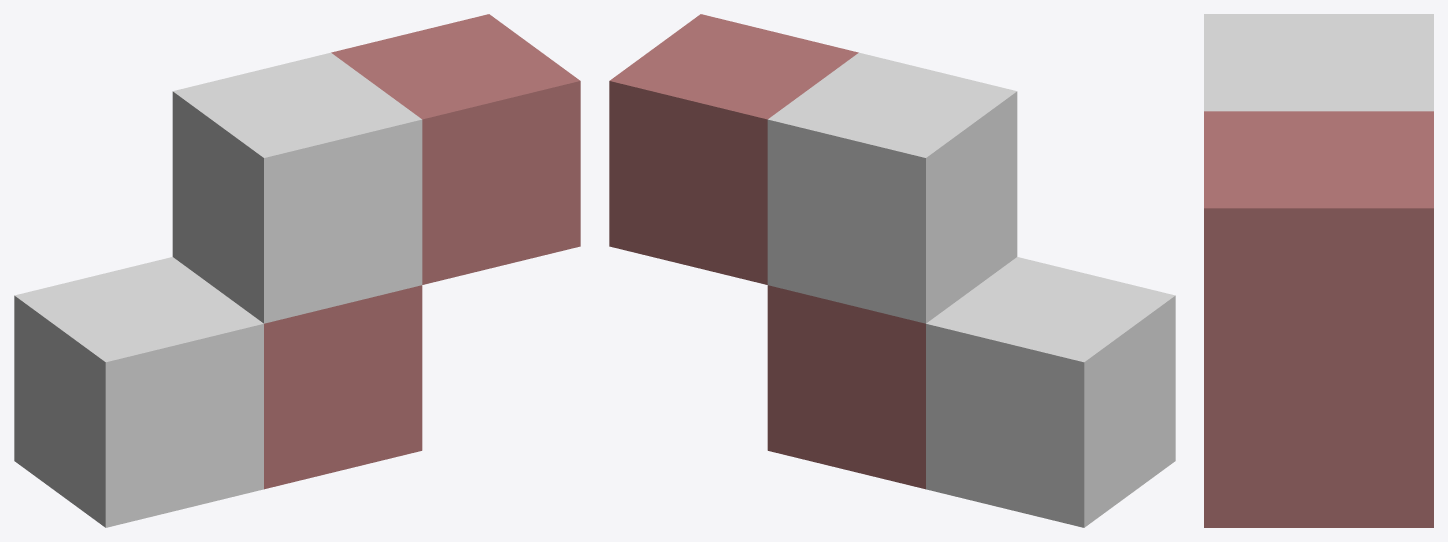
The model's file is piece4.fbx.
The picture shows the model from 3 angles, left to right: view 1: azimuth 30°, elevation 25°; view 2: azimuth 150°, elevation 25°; view 3: azimuth 270°, elevation 25°; orthographic projection. The views are drawn at different scales.
Visible parts, largest first — view 1: Shape_IndexedFaceSet.001; view 2: Shape_IndexedFaceSet.001; view 3: Shape_IndexedFaceSet.001.
Boxes of the visible parts, x1,y1,x2,y2 form: Shape_IndexedFaceSet.001: (14, 14, 580, 527); Shape_IndexedFaceSet.001: (609, 14, 1175, 527); Shape_IndexedFaceSet.001: (1204, 14, 1433, 527).
Size of the model in its own units: 300 by 200 by 100.
